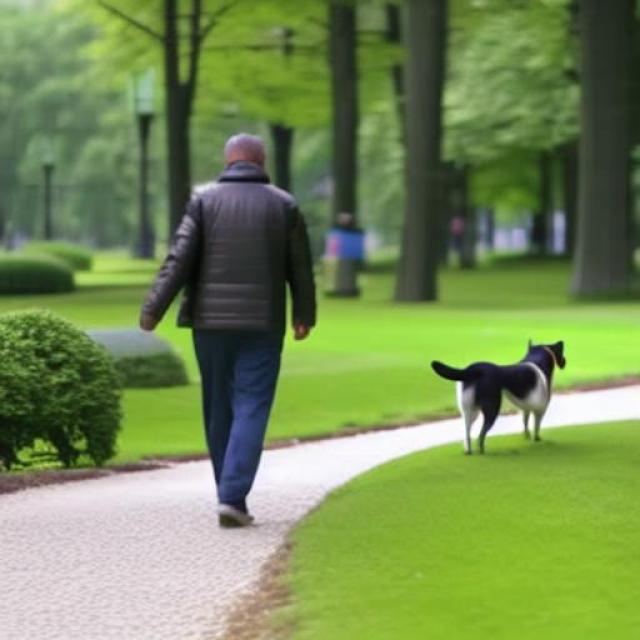Unleashed_Dog: (195, 288, 568, 457)
